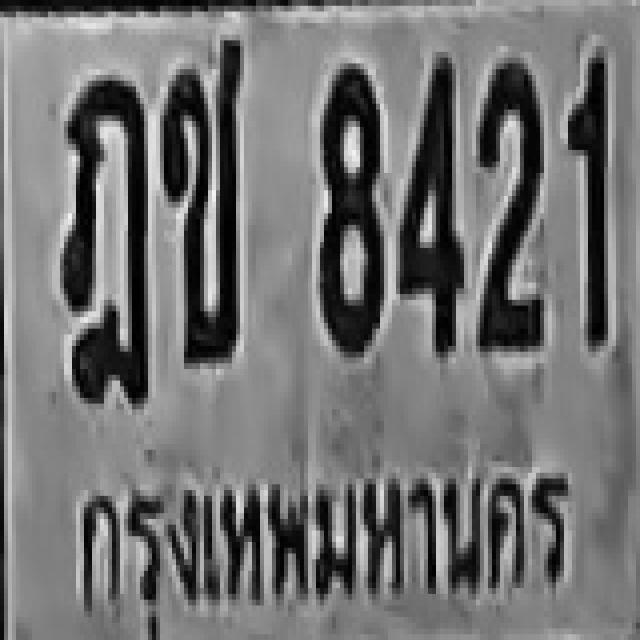1: (562, 55, 606, 343), (564, 55, 608, 320)
2: (476, 63, 544, 346)
23DorChaDa: (60, 75, 148, 404)
4: (396, 52, 460, 352)
8: (318, 58, 382, 352)
Bangkok: (55, 450, 585, 636)
